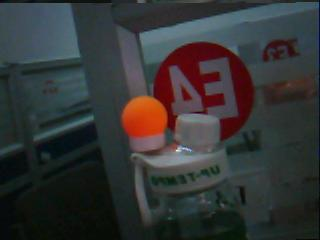oball: (122, 95, 167, 135)
